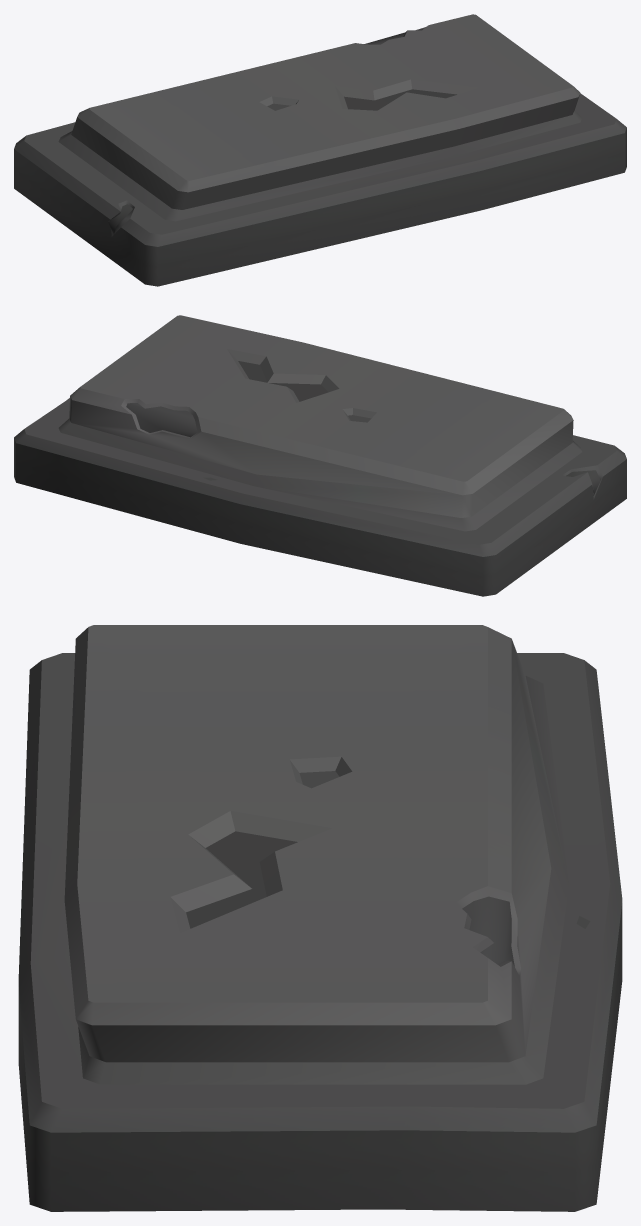
File: Grave_2_2.obj
The picture shows the model from 3 angles, top to bottom: view 1: azimuth 30°, elevation 25°; view 2: azimuth 150°, elevation 25°; view 3: azimuth 270°, elevation 25°; orthographic projection. The views are drawn at different scales.
Visible parts, largest first — view 1: Grave_2_2; view 2: Grave_2_2; view 3: Grave_2_2.
Part boxes in pixels (<box>): Grave_2_2: <box>14,14,626,286</box>; Grave_2_2: <box>14,315,626,596</box>; Grave_2_2: <box>18,625,622,1211</box>.
Size of the model in its own units: 1.69 by 0.2801 by 0.9163.
